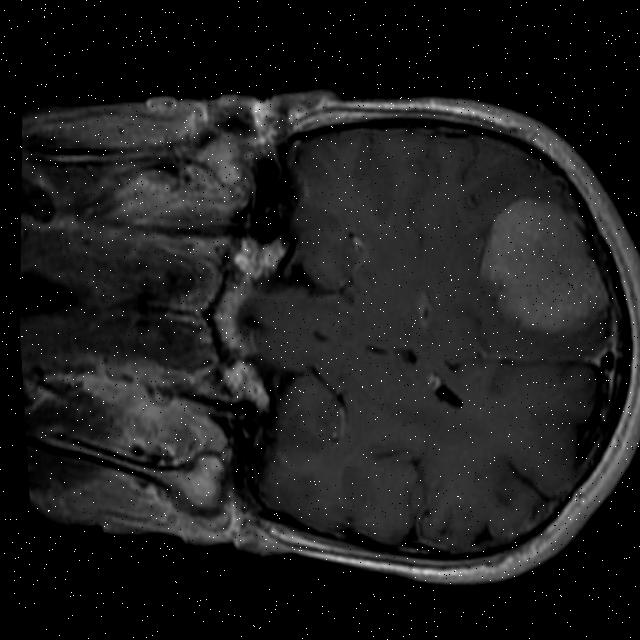Meningioma: (468, 192, 618, 341)
